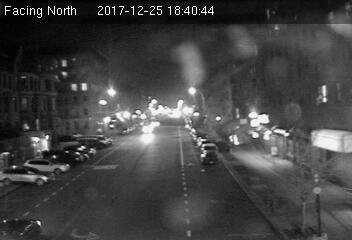car: (198, 148, 218, 164)
